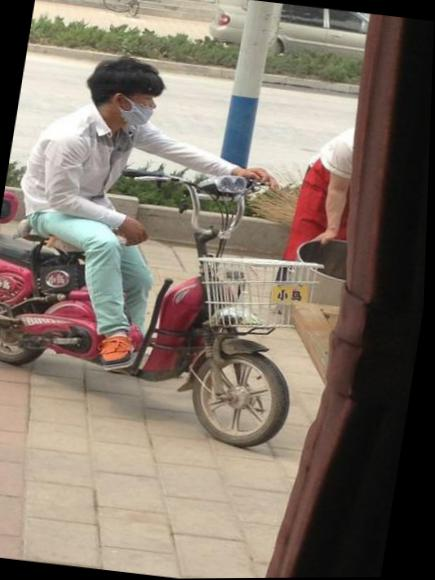WRONG: (108, 79, 162, 135)
